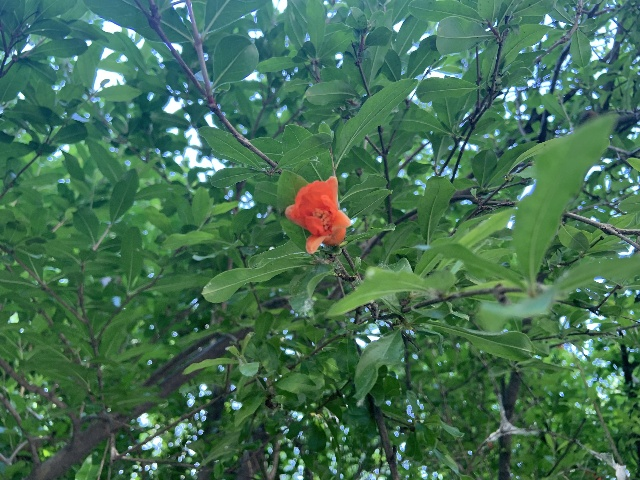flower: (284, 176, 350, 253)
